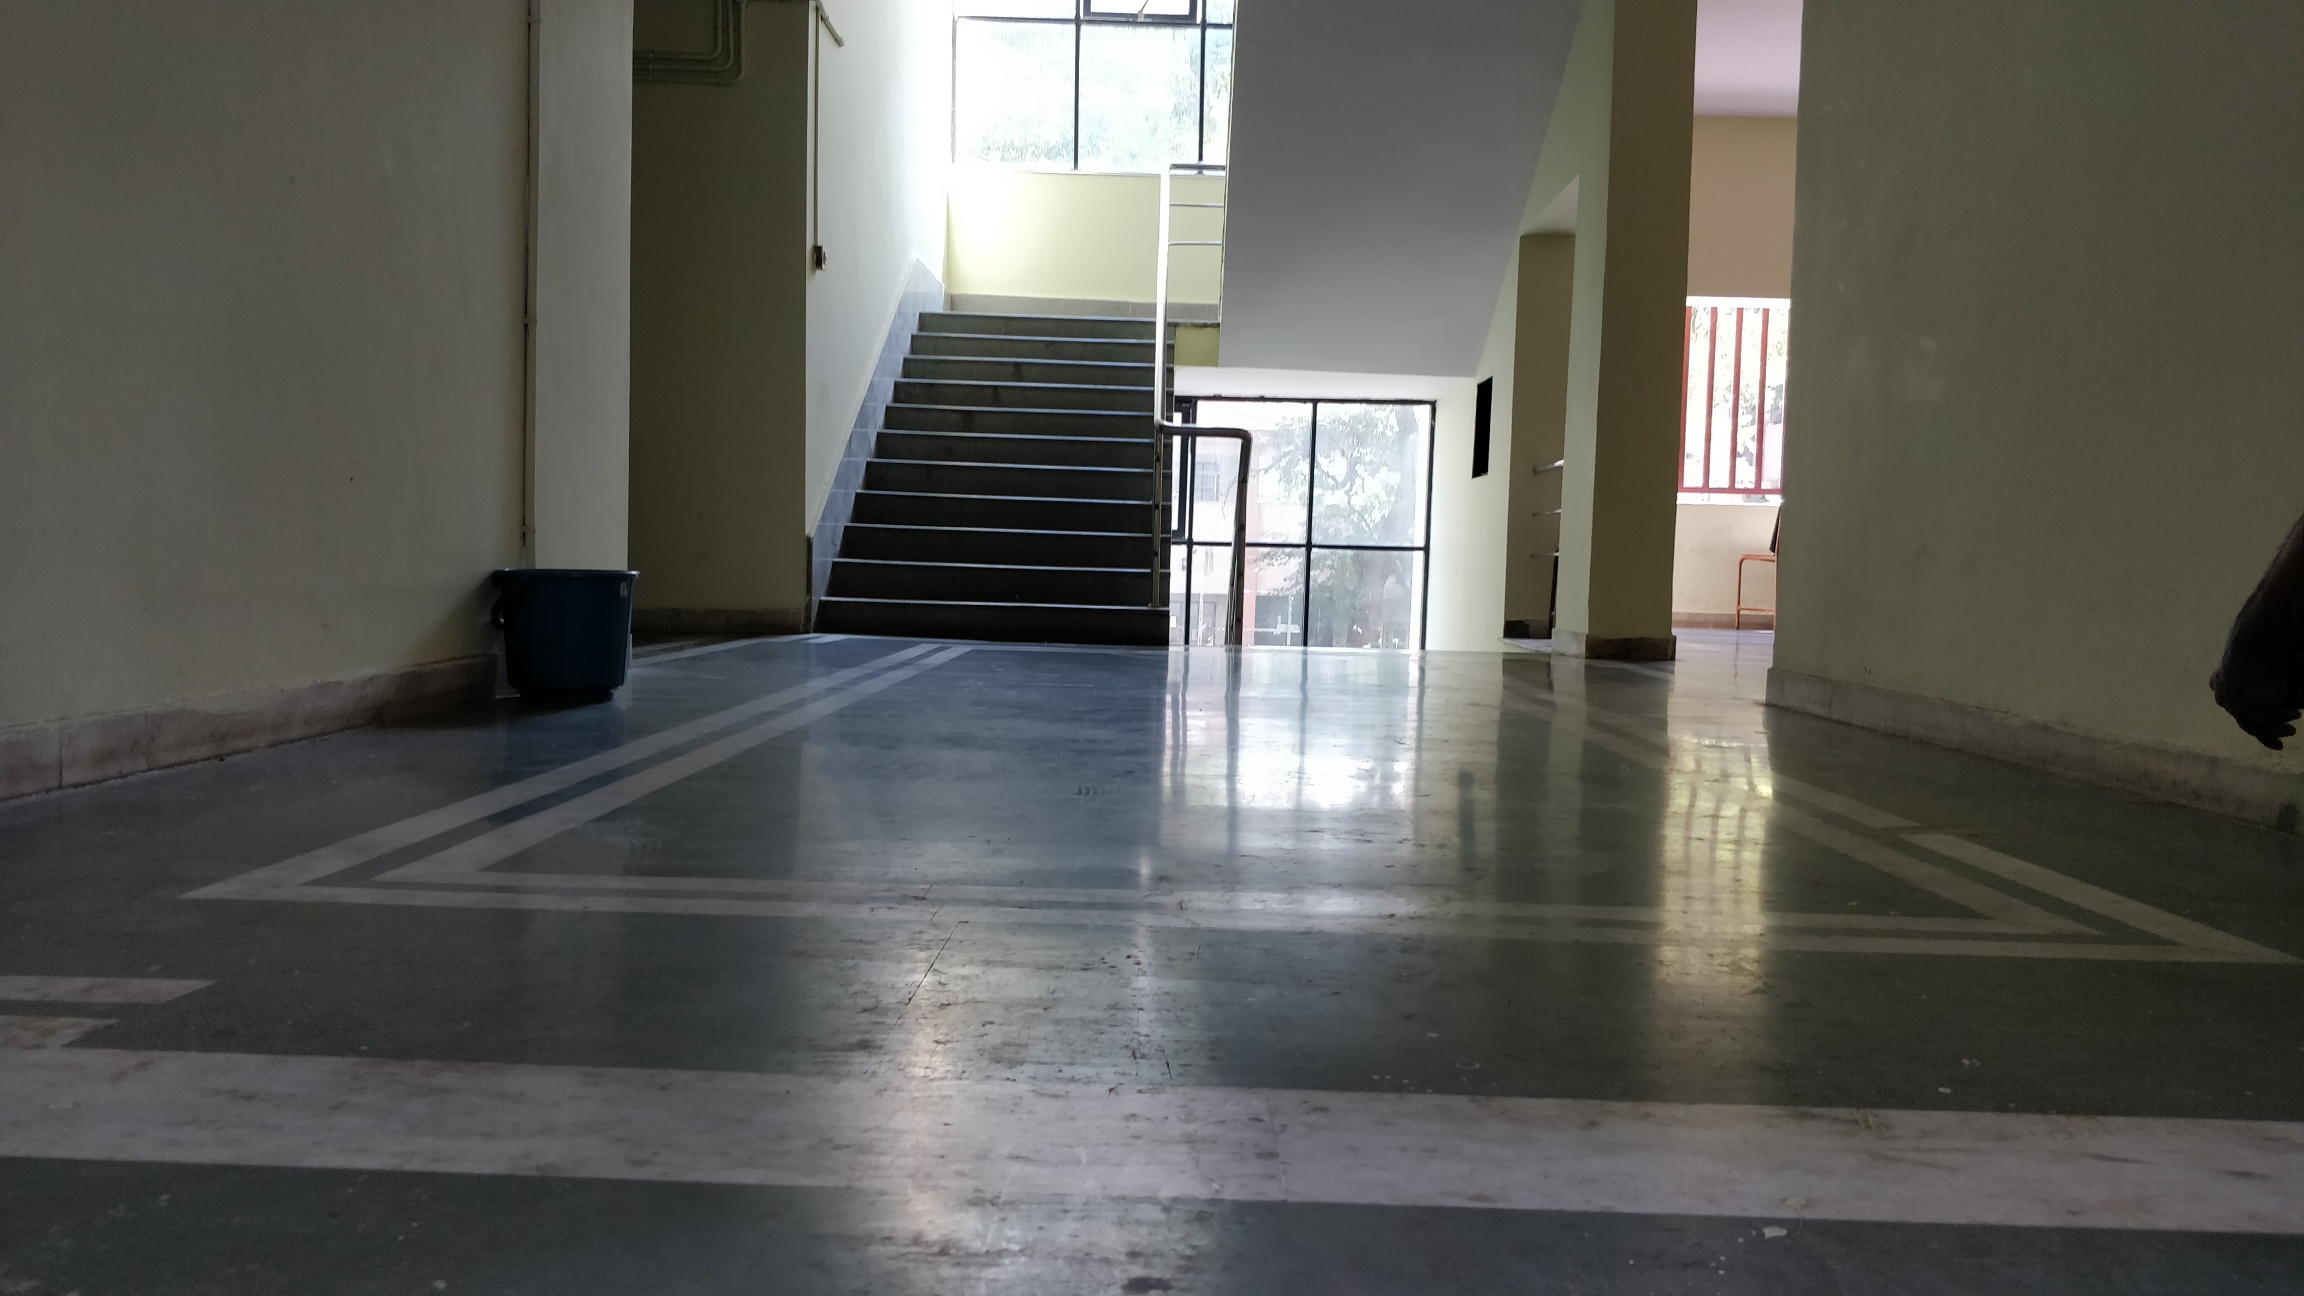stairs_up: (809, 324, 1173, 639)
